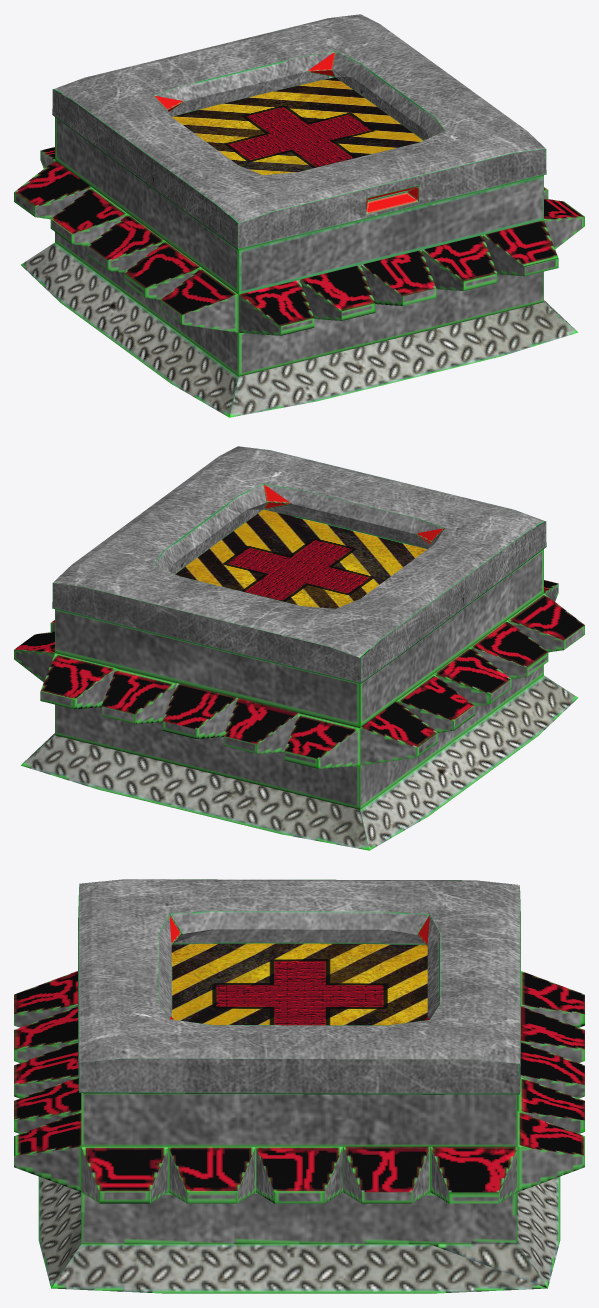
Rendered from HealthCrate.FBX.
3 views of the same model, one above another, from view 1: azimuth 30°, elevation 25°; view 2: azimuth 150°, elevation 25°; view 3: azimuth 270°, elevation 25° (orthographic). The views are drawn at different scales.
Visible parts, largest first — view 1: Box001, top; view 2: Box001, top; view 3: Box001, top.
Boxes of the visible parts, box(x1,y1,x2,y2) form: Box001: box(14, 117, 584, 417); top: box(52, 14, 546, 249); Box001: box(14, 549, 584, 850); top: box(52, 446, 546, 683); Box001: box(14, 971, 584, 1293); top: box(78, 879, 520, 1094).
Size of the model in its own units: 97.56 by 44.9 by 101.
2 materials, 2 textured.
